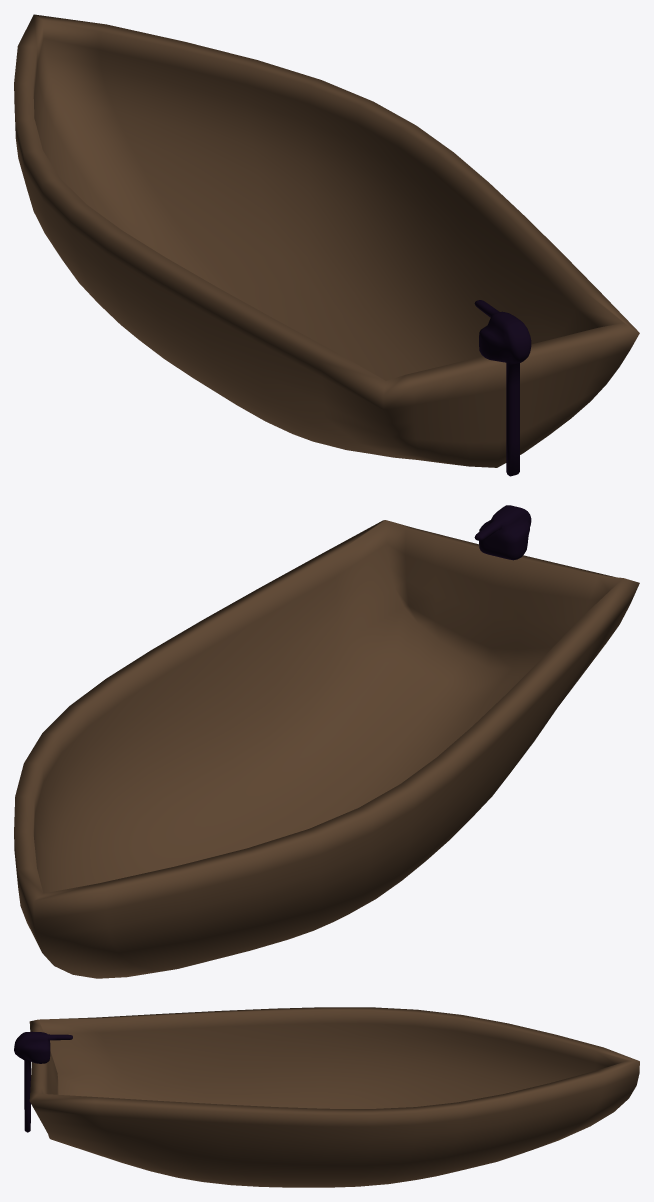
The model's file is Boat.fbx.
3 views of the same model, one above another, from view 1: azimuth 30°, elevation 25°; view 2: azimuth 150°, elevation 25°; view 3: azimuth 270°, elevation 25° (orthographic). The views are drawn at different scales.
Visible parts, largest first — view 1: Cube, Cube.001; view 2: Cube, Cube.001; view 3: Cube, Cube.001.
Part boxes in pixels (x1,y1,x2,y2): Cube: (14, 14, 639, 467); Cube.001: (474, 300, 531, 476); Cube: (14, 520, 639, 978); Cube.001: (474, 505, 531, 560); Cube: (29, 1007, 639, 1187); Cube.001: (14, 1031, 72, 1132).
Bounding box in the file's own units: 312 × 194 × 761.
